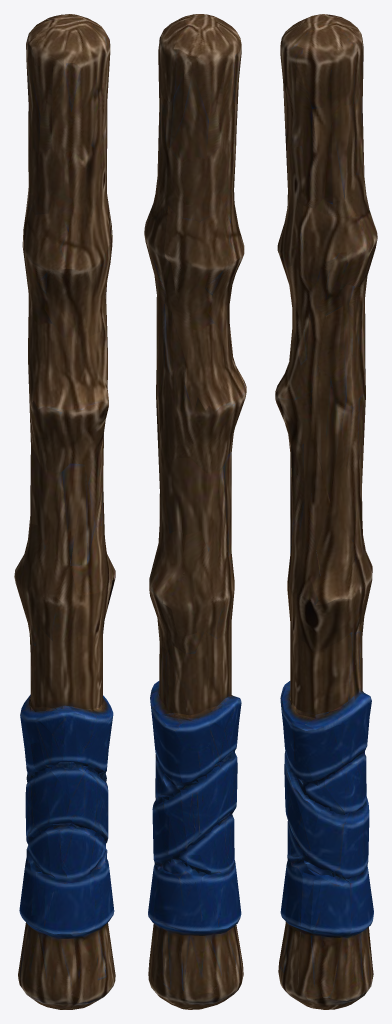
The model's file is sparkstick_wand.glb.
3 renders of one model, left to right at view 1: azimuth 90°, elevation 25°; view 2: azimuth 150°, elevation 25°; view 3: azimuth 330°, elevation 25°, orthographic.
Bounding box in the file's own units: 0.0913 × 0.9661 × 0.0902.
Materials: 1 (1 with a texture image).
